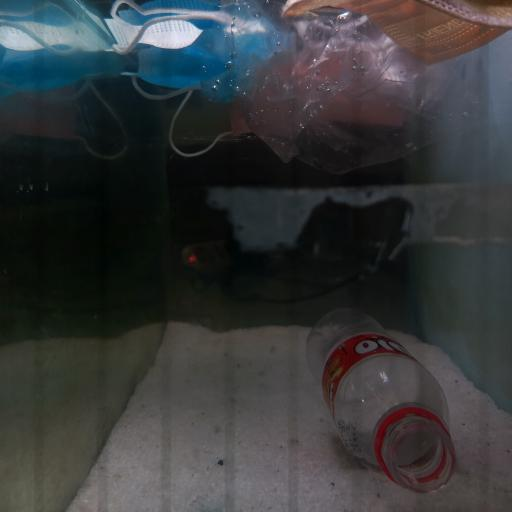mask: (114, 6, 282, 164), (291, 6, 512, 66)
plastic_bag: (186, 6, 462, 179)
plastic_bottle: (299, 302, 455, 496)
